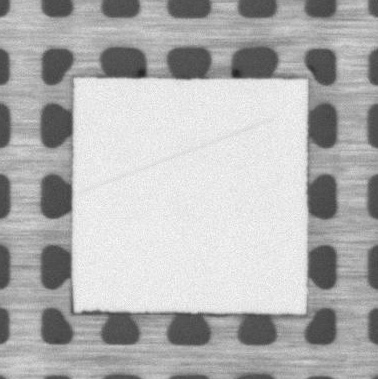DIE_CRACK: (80, 119, 272, 193)
